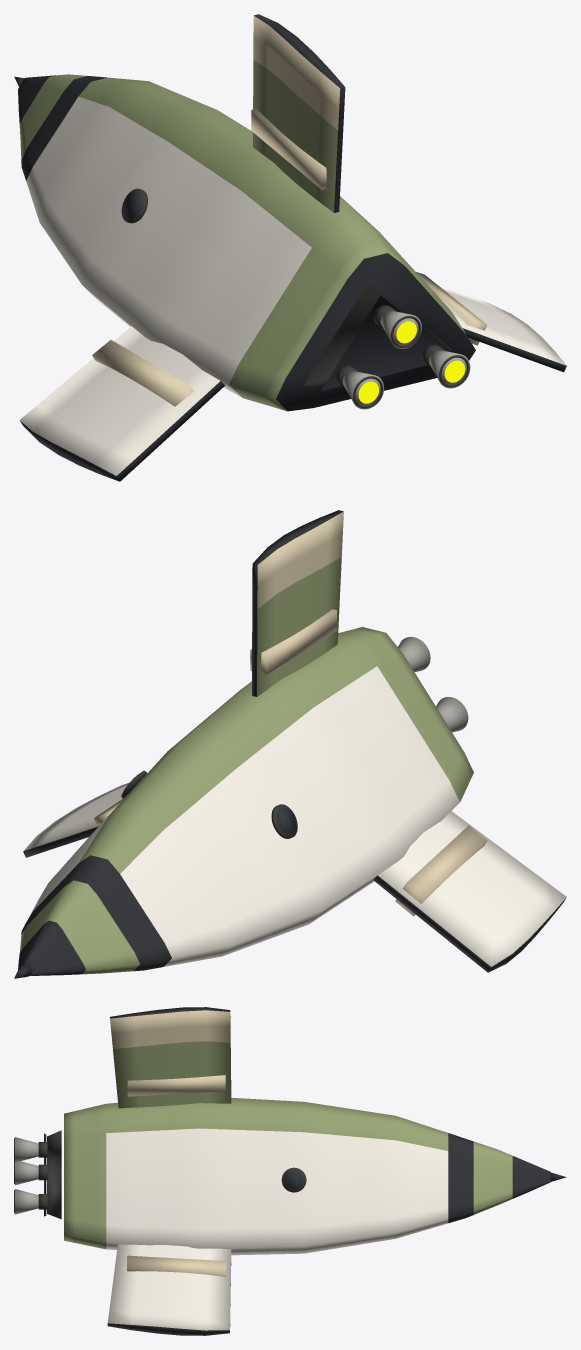
The model's file is Ship_Standard_7.glb.
3 views of the same model, one above another, from view 1: azimuth 30°, elevation 25°; view 2: azimuth 150°, elevation 25°; view 3: azimuth 270°, elevation 25° (orthographic). The views are drawn at different scales.
Visible parts, largest first — view 1: Fuselage_RoundedTriangleTriFoldBody, Wing_LowerLeft_TriFoldCornerBladePaintedMesh, Wing_Dorsal_TriFoldCornerBladePaintedMesh, EngineBlock_AftTriFoldTrimFrame, Wing_LowerRight_TriFoldCornerBladePaintedMesh, Nose_RoundedTriangleTaperedForwardSection, WingRootSocket_LowerLeft_IntegratedEmbeddedShoulder, EngineBlock_AftTriangularIntegratedMountPlate, WingRootSocket_Dorsal_IntegratedEmbeddedShoulder, EngineEmitter, WingRootSocket_LowerRight_IntegratedEmbeddedShoulder, SideSensorFrame_UpperLeftSide_DarkRoundRim (+3 smaller); view 2: Fuselage_RoundedTriangleTriFoldBody, Wing_LowerLeft_TriFoldCornerBladePaintedMesh, Wing_Dorsal_TriFoldCornerBladePaintedMesh, Nose_RoundedTriangleTaperedForwardSection, Wing_LowerRight_TriFoldCornerBladePaintedMesh, WingRootSocket_LowerLeft_IntegratedEmbeddedShoulder, WingRootSocket_Dorsal_IntegratedEmbeddedShoulder, EngineBell_LowerLeft_BurnishedNozzle, EngineBell_Dorsal_BurnishedNozzle, SideSensorFrame_UpperLeftSide_DarkRoundRim; view 3: Fuselage_RoundedTriangleTriFoldBody, Wing_Dorsal_TriFoldCornerBladePaintedMesh, Wing_LowerRight_TriFoldCornerBladePaintedMesh, Nose_RoundedTriangleTaperedForwardSection, WingRootSocket_Dorsal_IntegratedEmbeddedShoulder, WingRootSocket_LowerRight_IntegratedEmbeddedShoulder, EngineBlock_AftTriangularIntegratedMountPlate, SideSensorFrame_UpperRightSide_DarkRoundRim, EngineBell_LowerRight_BurnishedNozzle, EngineBell_Dorsal_BurnishedNozzle, EngineBell_LowerLeft_BurnishedNozzle.
Boxes of the visible parts, left/top/right/bottom form: Fuselage_RoundedTriangleTriFoldBody: left=21, top=76, right=475, bottom=411; Wing_LowerLeft_TriFoldCornerBladePaintedMesh: left=20, top=326, right=224, bottom=481; Wing_Dorsal_TriFoldCornerBladePaintedMesh: left=253, top=14, right=345, bottom=212; EngineBlock_AftTriFoldTrimFrame: left=321, top=295, right=451, bottom=391; Wing_LowerRight_TriFoldCornerBladePaintedMesh: left=439, top=287, right=566, bottom=372; Nose_RoundedTriangleTaperedForwardSection: left=18, top=74, right=93, bottom=166; WingRootSocket_LowerLeft_IntegratedEmbeddedShoulder: left=92, top=340, right=193, bottom=406; EngineBlock_AftTriangularIntegratedMountPlate: left=304, top=281, right=451, bottom=387; WingRootSocket_Dorsal_IntegratedEmbeddedShoulder: left=251, top=108, right=326, bottom=189; EngineEmitter: left=358, top=321, right=465, bottom=403; WingRootSocket_LowerRight_IntegratedEmbeddedShoulder: left=416, top=272, right=487, bottom=345; SideSensorFrame_UpperLeftSide_DarkRoundRim: left=121, top=188, right=147, bottom=223; Fuselage_RoundedTriangleTriFoldBody: left=23, top=627, right=473, bottom=970; Wing_LowerLeft_TriFoldCornerBladePaintedMesh: left=373, top=811, right=566, bottom=972; Wing_Dorsal_TriFoldCornerBladePaintedMesh: left=252, top=510, right=343, bottom=696; Nose_RoundedTriangleTaperedForwardSection: left=18, top=872, right=151, bottom=975; Wing_LowerRight_TriFoldCornerBladePaintedMesh: left=23, top=783, right=129, bottom=857; WingRootSocket_LowerLeft_IntegratedEmbeddedShoulder: left=395, top=825, right=487, bottom=916; WingRootSocket_Dorsal_IntegratedEmbeddedShoulder: left=250, top=609, right=336, bottom=674; EngineBell_LowerLeft_BurnishedNozzle: left=436, top=697, right=468, bottom=732; EngineBell_Dorsal_BurnishedNozzle: left=398, top=636, right=430, bottom=671; SideSensorFrame_UpperLeftSide_DarkRoundRim: left=271, top=804, right=297, bottom=838; Fuselage_RoundedTriangleTriFoldBody: left=64, top=1098, right=465, bottom=1255; Wing_Dorsal_TriFoldCornerBladePaintedMesh: left=110, top=1007, right=231, bottom=1108; Wing_LowerRight_TriFoldCornerBladePaintedMesh: left=107, top=1244, right=231, bottom=1335; Nose_RoundedTriangleTaperedForwardSection: left=465, top=1139, right=550, bottom=1217; WingRootSocket_Dorsal_IntegratedEmbeddedShoulder: left=127, top=1075, right=225, bottom=1096; WingRootSocket_LowerRight_IntegratedEmbeddedShoulder: left=127, top=1255, right=225, bottom=1276; EngineBlock_AftTriangularIntegratedMountPlate: left=47, top=1130, right=61, bottom=1219; SideSensorFrame_UpperRightSide_DarkRoundRim: left=281, top=1167, right=306, bottom=1192; EngineBell_LowerRight_BurnishedNozzle: left=15, top=1189, right=38, bottom=1214; EngineBell_Dorsal_BurnishedNozzle: left=15, top=1137, right=38, bottom=1162; EngineBell_LowerLeft_BurnishedNozzle: left=15, top=1161, right=38, bottom=1185.
Bounding box in the file's own units: 4.91 × 3.54 × 7.07.
